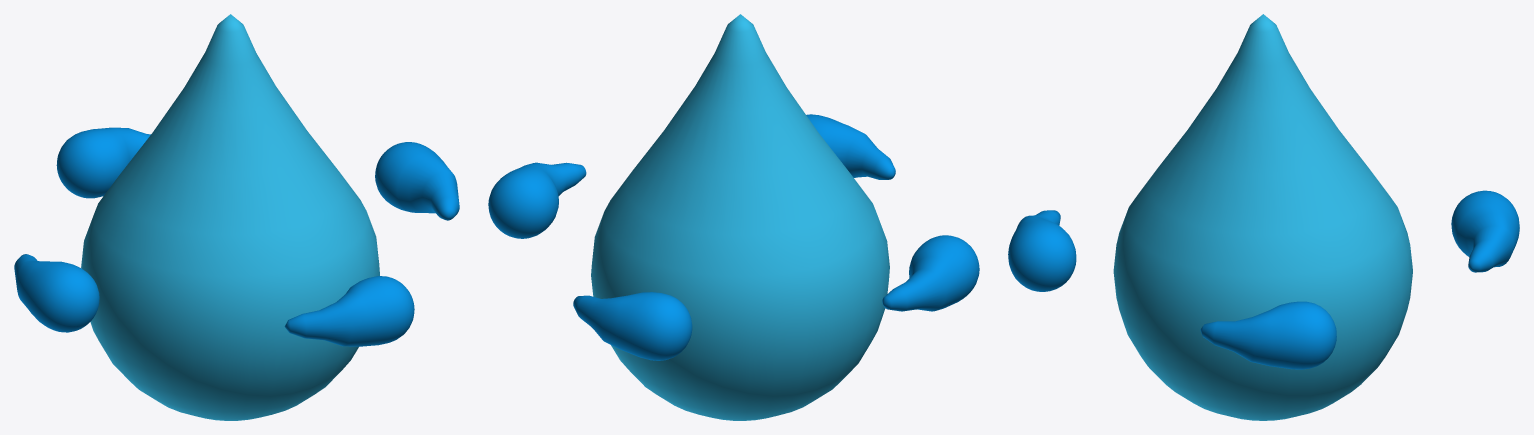
Rendered from wall_5_fairy.fbx.
The picture shows the model from 3 angles, left to right: view 1: azimuth 30°, elevation 25°; view 2: azimuth 150°, elevation 25°; view 3: azimuth 270°, elevation 25°; orthographic projection.
Visible parts, largest first — view 1: 구체, 구체.008; view 2: 구체, 구체.008; view 3: 구체, 구체.008.
Part boxes in pixels (x1,y1,x2,y2): 구체: (81, 14, 379, 420); 구체.008: (14, 127, 459, 346); 구체: (591, 14, 889, 420); 구체.008: (488, 114, 979, 360); 구체: (1113, 14, 1412, 420); 구체.008: (1008, 190, 1519, 369).
Bounding box in the file's own units: 342 × 290 × 342.
